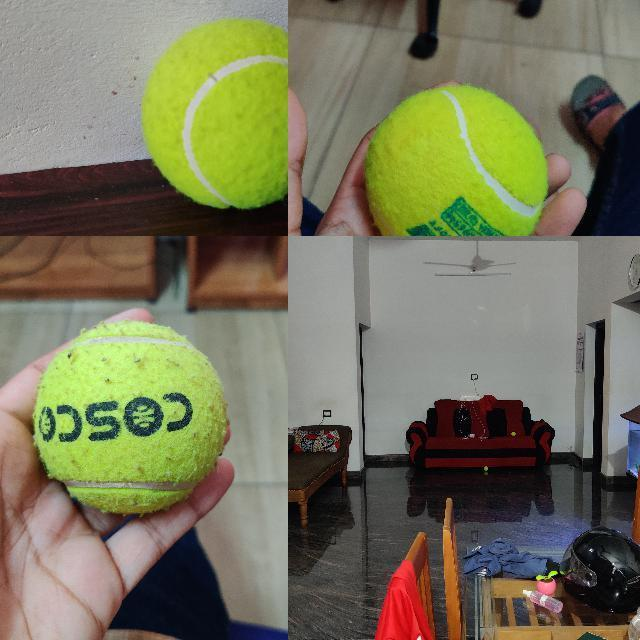tennis-ball: (33, 319, 226, 513), (140, 16, 287, 210), (365, 85, 546, 235), (511, 432, 516, 436), (483, 466, 487, 470)
